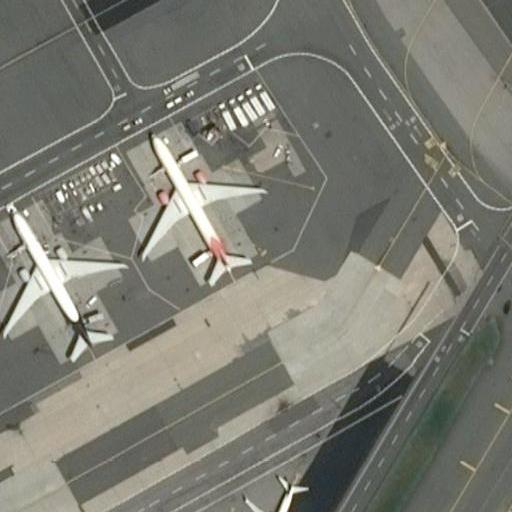Aircraft: (125, 128, 264, 282), (0, 196, 127, 359), (232, 465, 319, 512)
